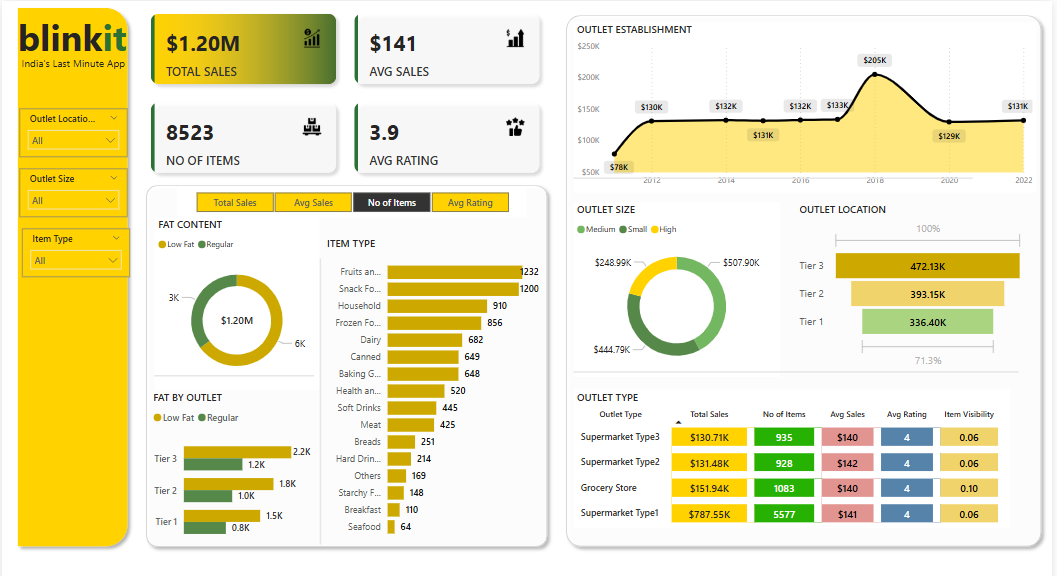

The page's visual inventory and layout, read from the dashboard file:
{"tool":"powerbi","page":{"name":"Page 1","canvas":[1400,800],"ordinal":0},"visuals":[{"type":"shape","box":[11.2,0,165,736.2],"z":0},{"type":"textbox","box":[15,10,166.2,68.8],"z":1000},{"type":"textbox","box":[11.2,10,163.8,73.8],"z":2000},{"type":"textbox","box":[15,68.8,160,28.8],"z":3000},{"type":"cardVisual","fields":{"Data":["BlinkIT Grocery Data.Total Sales","BlinkIT Grocery Data.Avg Sales","BlinkIT Grocery Data.No of Items","BlinkIT Grocery Data.Avg Rating"]},"box":[181.2,0,553.8,247.5],"z":4000},{"type":"shape","box":[182.5,236.2,552.5,500],"z":5000},{"type":"donutChart","title":"FAT CONTENT","fields":{"Y":["BlinkIT Grocery Data.No of Items"],"Category":["BlinkIT Grocery Data.Item Fat Content"]},"box":[203.8,287.5,220,230],"z":6000},{"type":"slicer","fields":{"Values":["Metrics.Metrics"]},"box":[233.8,247.5,466.2,40],"z":7000},{"type":"cardVisual","fields":{"Data":["BlinkIT Grocery Data.Total Sales"]},"box":[273.8,400,80,41.2],"z":8000},{"type":"clusteredBarChart","title":"FAT BY OUTLET","fields":{"Y":["BlinkIT Grocery Data.No of Items"],"Category":["BlinkIT Grocery Data.Outlet Location Type"],"Series":["BlinkIT Grocery Data.Item Fat Content"]},"box":[196.2,517.5,220,216.2],"z":9000},{"type":"shape","box":[203.7,493.7,212.6,12.6],"z":10000},{"type":"shape","box":[417.5,343.8,12.5,381.2],"z":11000},{"type":"barChart","title":"ITEM TYPE","fields":{"Y":["BlinkIT Grocery Data.No of Items"],"Category":["BlinkIT Grocery Data.Item Type"]},"box":[427.5,313.8,292.5,411.2],"z":12000},{"type":"shape","box":[743.8,10,651.2,726.2],"z":13000},{"type":"lineChart","title":"OUTLET ESTABLISHMENT","fields":{"Y":["BlinkIT Grocery Data.Total Sales"],"Category":["BlinkIT Grocery Data.Outlet Establishment Year"]},"box":[761.2,28.8,617.5,227.5],"z":14000},{"type":"shape","box":[761.2,230,532.5,12.5],"z":15000},{"type":"donutChart","title":"OUTLET SIZE","fields":{"Y":["BlinkIT Grocery Data.Total Sales"],"Category":["BlinkIT Grocery Data.Outlet Size"]},"box":[761.2,267.5,276.2,232.5],"z":16000},{"type":"funnel","title":"OUTLET LOCATION","fields":{"Y":["Sum(BlinkIT Grocery Data.Sales)"],"Category":["BlinkIT Grocery Data.Outlet Location Type"]},"box":[1058.8,267.5,308.8,226.2],"z":17000},{"type":"pivotTable","title":"OUTLET TYPE","fields":{"Values":["BlinkIT Grocery Data.Total Sales","BlinkIT Grocery Data.No of Items","BlinkIT Grocery Data.Avg Sales","BlinkIT Grocery Data.Avg Rating","Avg(BlinkIT Grocery Data.Item Visibility)"],"Rows":["BlinkIT Grocery Data.Outlet Type"]},"box":[761.2,517.5,582.5,185],"z":18000},{"type":"shape","box":[761.2,487.5,593.8,12.5],"z":19000},{"type":"slicer","fields":{"Values":["BlinkIT Grocery Data.Outlet Location Type"]},"box":[23.8,142.5,143.8,65],"z":20000},{"type":"slicer","fields":{"Values":["BlinkIT Grocery Data.Outlet Size"]},"box":[23.8,222.5,143.8,65],"z":21000},{"type":"slicer","fields":{"Values":["BlinkIT Grocery Data.Item Type"]},"box":[26.2,303.8,143.8,65],"z":22000}]}

Visuals, with their boxes on the page's 1400x800 design canvas (x1, y1, x2, y2). These are canvas units, not pixel positions in the 1057x576 screenshot, which may show the page scaled, cropped or inside an application window:
shape: bbox=(11, 0, 176, 736)
textbox: bbox=(15, 10, 181, 79)
textbox: bbox=(11, 10, 175, 84)
textbox: bbox=(15, 69, 175, 98)
cardVisual - BlinkIT Grocery Data.Total Sales x BlinkIT Grocery Data.Avg Sales: bbox=(181, 0, 735, 248)
shape: bbox=(182, 236, 735, 736)
"FAT CONTENT" donutChart: bbox=(204, 288, 424, 518)
slicer - Metrics.Metrics: bbox=(234, 248, 700, 288)
cardVisual - BlinkIT Grocery Data.Total Sales: bbox=(274, 400, 354, 441)
"FAT BY OUTLET" clusteredBarChart: bbox=(196, 518, 416, 734)
shape: bbox=(204, 494, 416, 506)
shape: bbox=(418, 344, 430, 725)
"ITEM TYPE" barChart: bbox=(428, 314, 720, 725)
shape: bbox=(744, 10, 1395, 736)
"OUTLET ESTABLISHMENT" lineChart: bbox=(761, 29, 1379, 256)
shape: bbox=(761, 230, 1294, 242)
"OUTLET SIZE" donutChart: bbox=(761, 268, 1037, 500)
"OUTLET LOCATION" funnel: bbox=(1059, 268, 1368, 494)
"OUTLET TYPE" pivotTable: bbox=(761, 518, 1344, 702)
shape: bbox=(761, 488, 1355, 500)
slicer - BlinkIT Grocery Data.Outlet Location Type: bbox=(24, 142, 168, 208)
slicer - BlinkIT Grocery Data.Outlet Size: bbox=(24, 222, 168, 288)
slicer - BlinkIT Grocery Data.Item Type: bbox=(26, 304, 170, 369)
